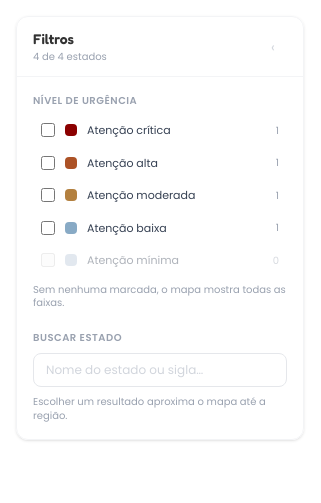
Test: FilterPanel › marcar uma faixa filtra, mostra Limpar e avisa quantas ficaram ocultas
What coordinates should you click on to do the following:
click the checkbox labelled "Atenção alta 1"
I would click on:
 (48, 163)
Its box is [41,156,55,170].
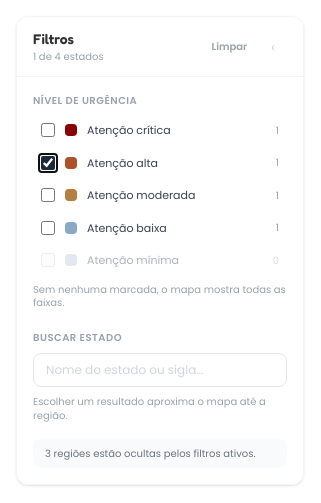
Result: the checkbox labelled "Atenção alta 1" is checked at [41,156,55,170]
Result: the text "1 de 4 estados" is shown at [33,49,104,64]
Result: the text "3 regiões estão ocultas pelos filtros ativos." is shown at [33,438,287,468]
